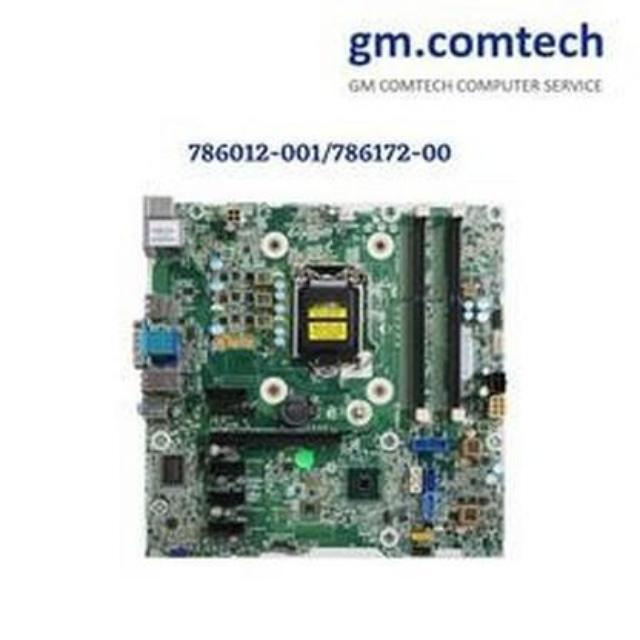Mainboard: (132, 195, 512, 560)
